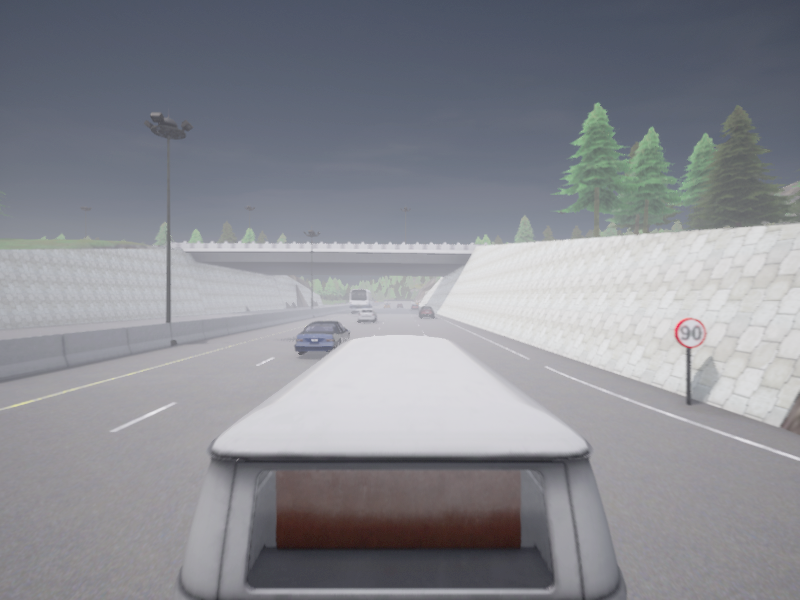vehicle: (174, 334, 626, 599), (294, 321, 350, 354), (350, 289, 373, 312), (358, 309, 376, 322), (418, 306, 433, 317), (411, 304, 418, 309), (384, 303, 390, 308), (397, 303, 402, 307)
